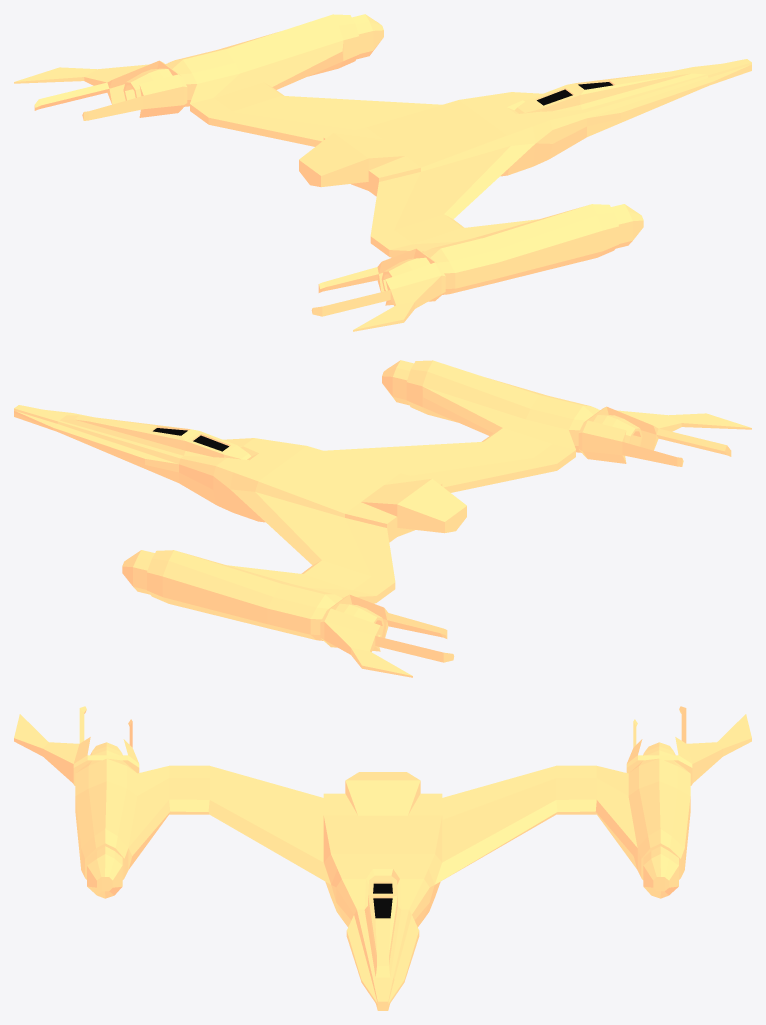
3 renders of one model, top to bottom at view 1: azimuth 30°, elevation 25°; view 2: azimuth 150°, elevation 25°; view 3: azimuth 270°, elevation 25°, orthographic. The views are drawn at different scales.
Visible parts, largest first — view 1: Cube; view 2: Cube; view 3: Cube.
Boxes of the visible parts, x1=… form: Cube: x1=14, y1=14, x2=751, y2=331; Cube: x1=14, y1=360, x2=751, y2=677; Cube: x1=14, y1=706, x2=751, y2=1010.
Bounding box in the file's own units: 751 × 74.45 × 778.
